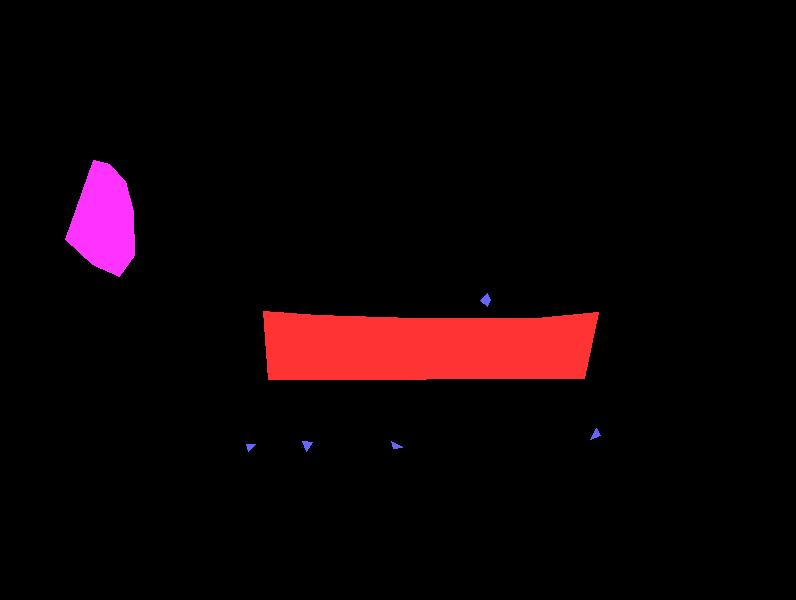Dent: (65, 160, 134, 276)
Missing part: (263, 311, 598, 379)
Scratch: (480, 293, 490, 306), (590, 428, 600, 439), (302, 441, 312, 451), (391, 441, 402, 448), (246, 444, 255, 451)
